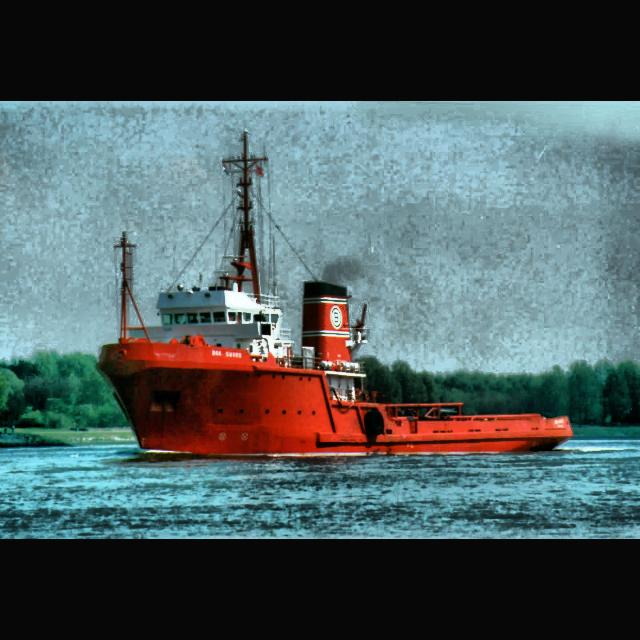anchor_handling_tug_supply: (93, 230, 579, 466)
